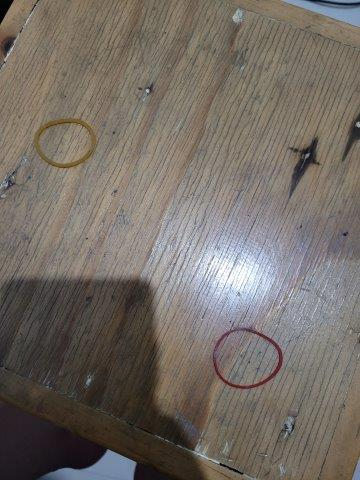karet: (212, 328, 284, 390), (34, 118, 97, 168)
